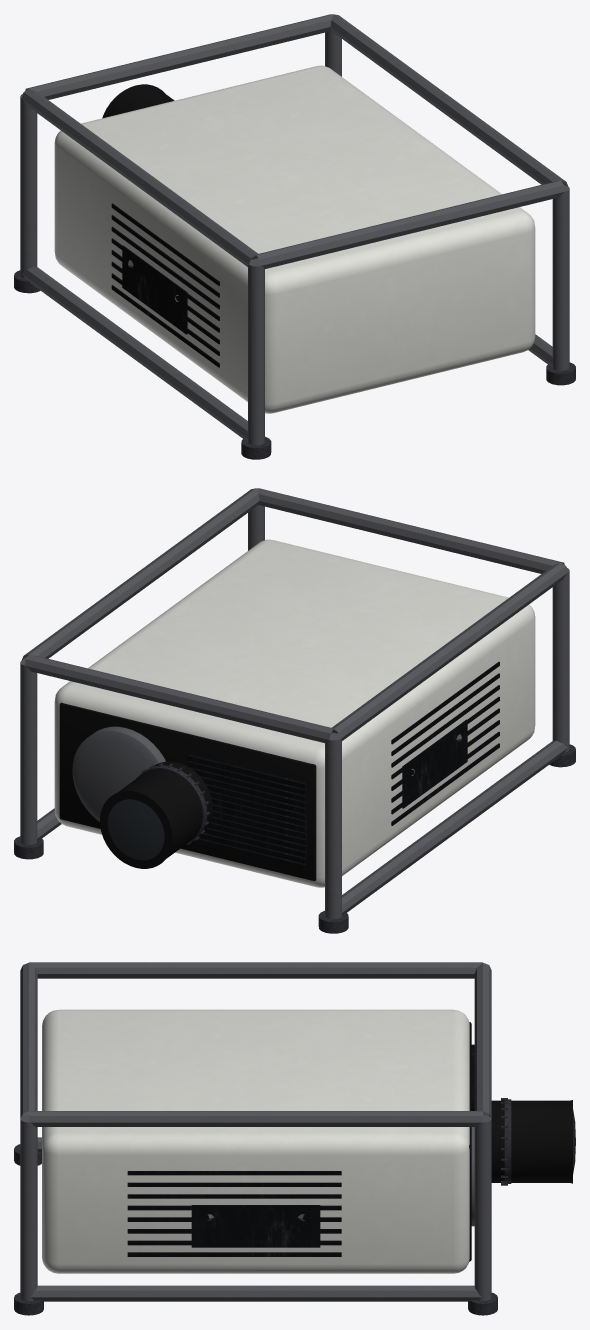
File: projector_barcade_40k.gltf
The picture shows the model from 3 angles, top to bottom: view 1: azimuth 30°, elevation 25°; view 2: azimuth 150°, elevation 25°; view 3: azimuth 270°, elevation 25°; orthographic projection.
Visible parts, largest first — view 1: projector_barcade_40k; view 2: projector_barcade_40k; view 3: projector_barcade_40k.
Boxes of the visible parts, box(x1,y1,x2,y2) form: projector_barcade_40k: box(14, 14, 575, 459); projector_barcade_40k: box(14, 488, 575, 933); projector_barcade_40k: box(14, 962, 575, 1315).
Size of the model in its own units: 0.89 by 0.51 by 1.31.
Materials: 7 (6 with a texture image).
